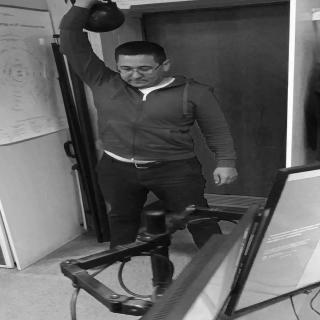kettlebell: (61, 1, 130, 35)
